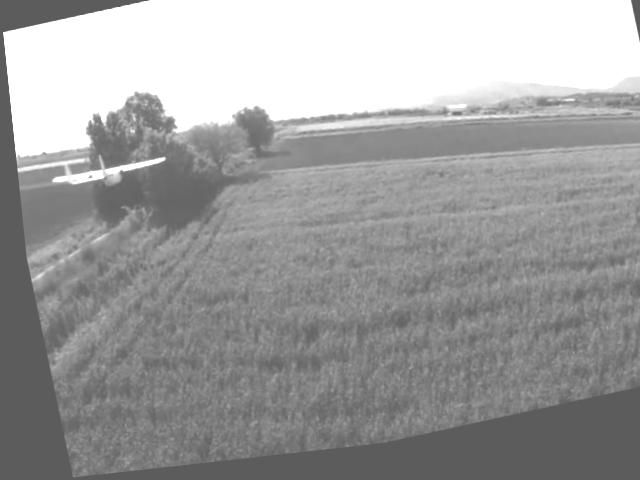hedef: (40, 136, 177, 216)
